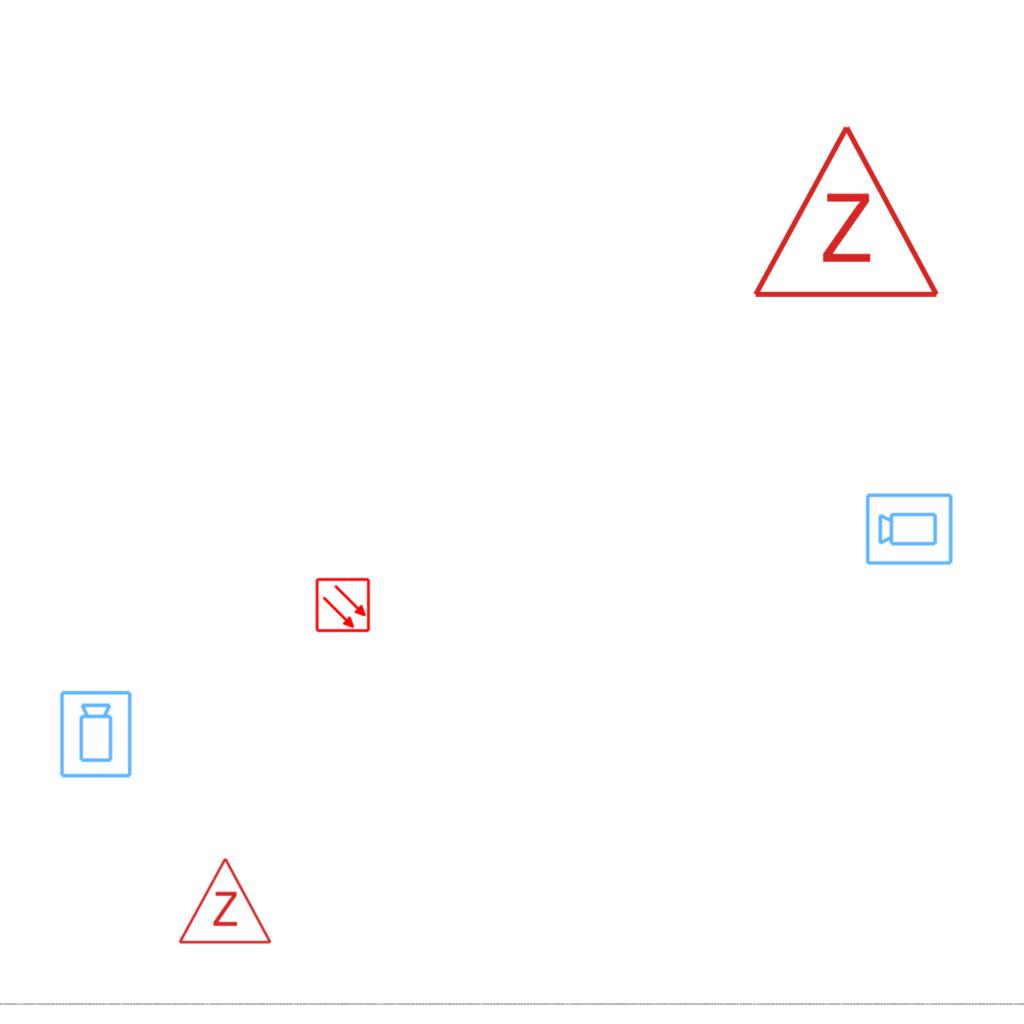KFO_Kamera_mit_Festobjektiv: (58, 689, 135, 780), (864, 490, 955, 567)
RMO_Rauchmelder_optischer: (315, 577, 371, 633)
Zimmersignalleuchte: (746, 112, 942, 312), (175, 851, 273, 951)
